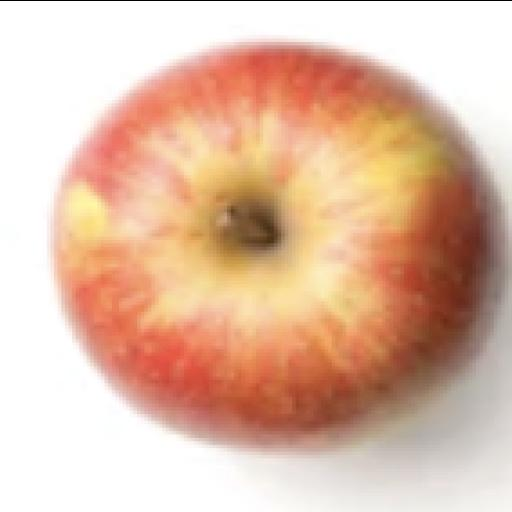apple: (55, 46, 490, 448)
